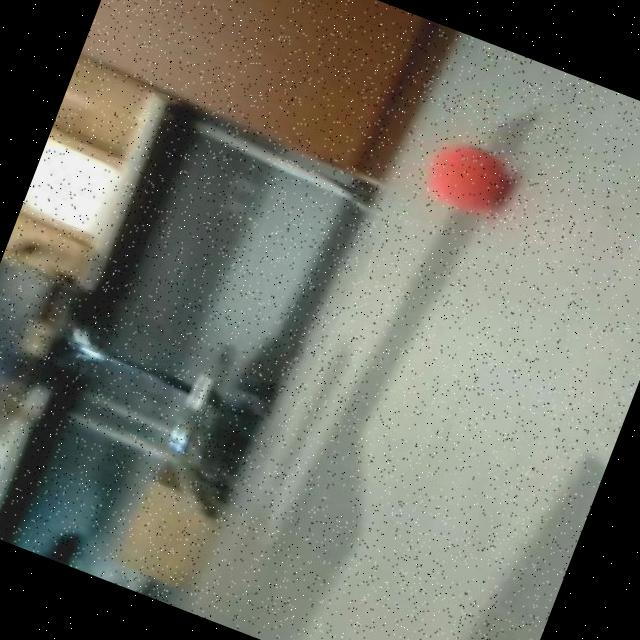ping-pong-ball: (417, 132, 522, 225)
